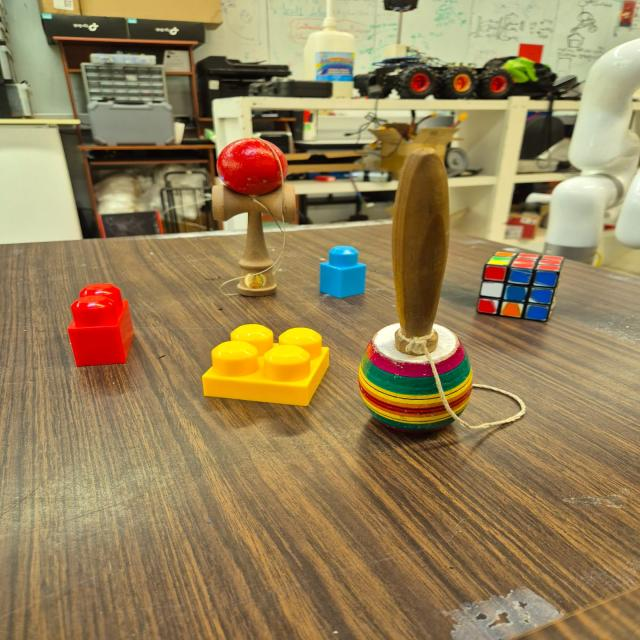balero: (358, 147, 527, 429)
balero ball: (209, 138, 298, 293)
lego 2: (65, 282, 133, 363)
lego 4: (202, 322, 330, 404)
lego_1: (319, 245, 366, 298)
rubick: (470, 248, 568, 325)
